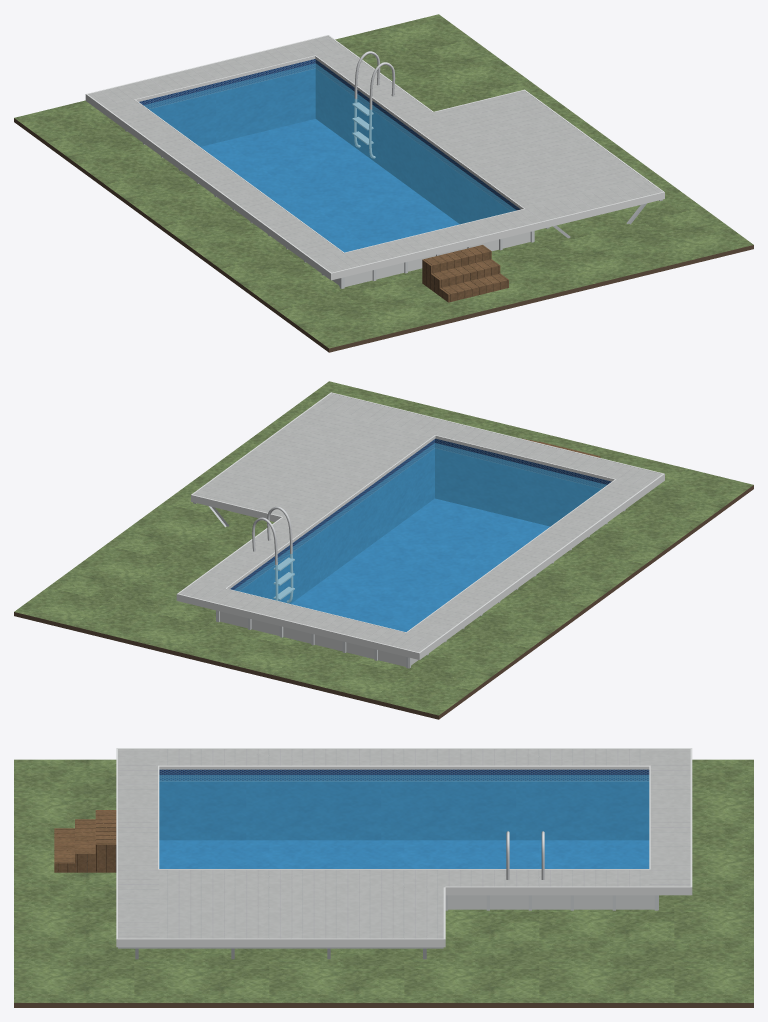
The model's file is kayak-pool-12x24-white-l-rec-nofence.508650bc72.glb.
3 views of the same model, one above another, from view 1: azimuth 30°, elevation 25°; view 2: azimuth 150°, elevation 25°; view 3: azimuth 270°, elevation 25° (orthographic). The views are drawn at different scales.
Parts seen in each view (by area): view 1: ground, water, deck, liner_wall, liner_floor, fascia, soil, steps, wall, steel; view 2: ground, water, deck, liner_wall, liner_floor, fascia, soil, wall, steel; view 3: ground, water, deck, liner_wall, liner_floor, fascia, soil, steps, wall, stud.
Boxes of the visible parts, x1,y1,x2,y2 form: ground: (14,14,753,348); water: (143,63,516,252); deck: (88,36,661,272); liner_wall: (139,59,520,224); liner_floor: (201,119,459,252); fascia: (85,35,664,280); soil: (14,118,753,352); steps: (422,245,508,302); wall: (332,232,530,286); steel: (352,51,395,158); ground: (14,381,753,715); water: (234,443,606,631); deck: (179,393,662,652); liner_wall: (230,438,611,603); liner_floor: (291,498,549,631); fascia: (176,392,664,659); soil: (14,485,753,719); wall: (220,611,417,666); steel: (252,506,294,602); ground: (14,759,753,1002); water: (159,775,649,868); deck: (118,749,690,938); liner_wall: (159,769,649,840); liner_floor: (159,840,649,868); fascia: (116,748,692,947); soil: (14,1003,753,1007); steps: (54,810,116,872); wall: (448,895,654,909); stud: (118,947,443,959).
Bounding box in the file's own units: 8.53 × 1.9 × 10.97.
Materials: 12 (5 with a texture image).
